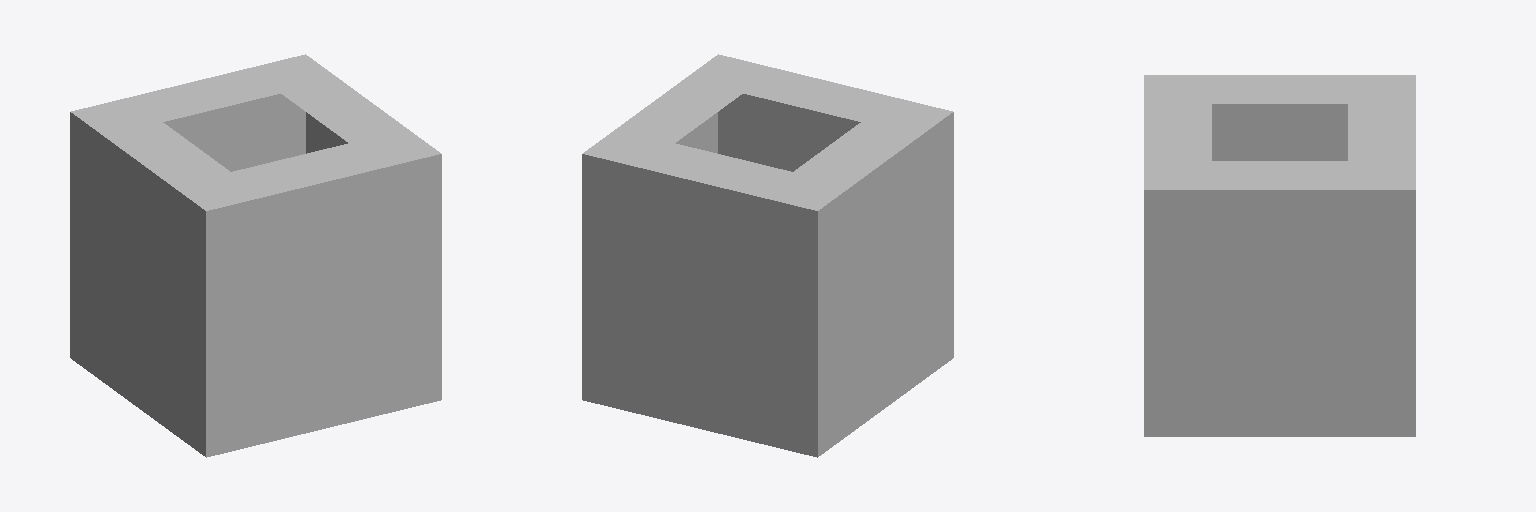
Rendered from salt_collector_1.0.obj.
The picture shows the model from 3 angles: view 1: azimuth 30°, elevation 25°; view 2: azimuth 150°, elevation 25°; view 3: azimuth 270°, elevation 25°; orthographic projection.
Visible parts, largest first — view 1: Cube; view 2: Cube; view 3: Cube.
Boxes of the visible parts, <box> form: Cube: <box>70,54,441,457</box>; Cube: <box>582,54,953,457</box>; Cube: <box>1144,75,1415,436</box>.
Bounding box in the file's own units: 1 × 1 × 1.